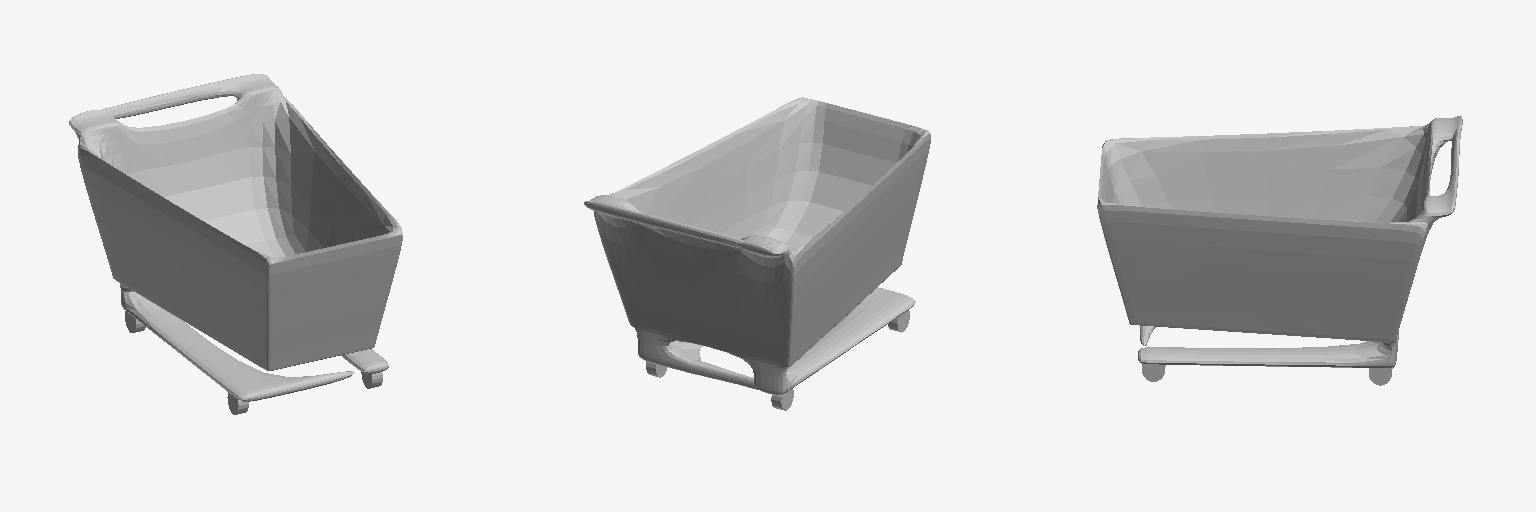
The model's file is trolley.obj.
The picture shows the model from 3 angles: view 1: azimuth 30°, elevation 25°; view 2: azimuth 150°, elevation 25°; view 3: azimuth 270°, elevation 25°; orthographic projection.
Parts seen in each view (by area): view 1: pCube2; view 2: pCube2; view 3: pCube2.
Boxes of the visible parts, x1=… form: pCube2: x1=69, y1=74, x2=402, y2=414; pCube2: x1=584, y1=97, x2=930, y2=410; pCube2: x1=1097, y1=116, x2=1462, y2=385.
Size of the model in its own units: 3.23 by 2.94 by 4.98.